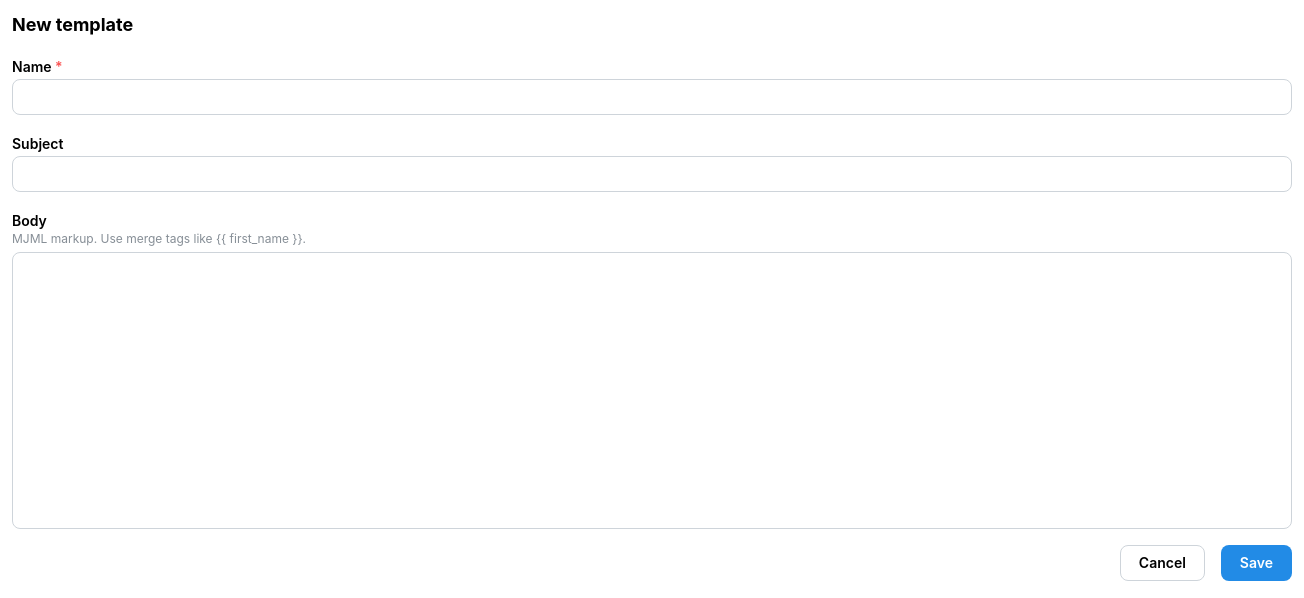
Test: creating a template sends the filled keys, refreshes the list and opens the edit page
Type "Welcome" into the field labelled "Name *" at point(652, 97), box x1=12 y1=79 x2=1292 y2=115
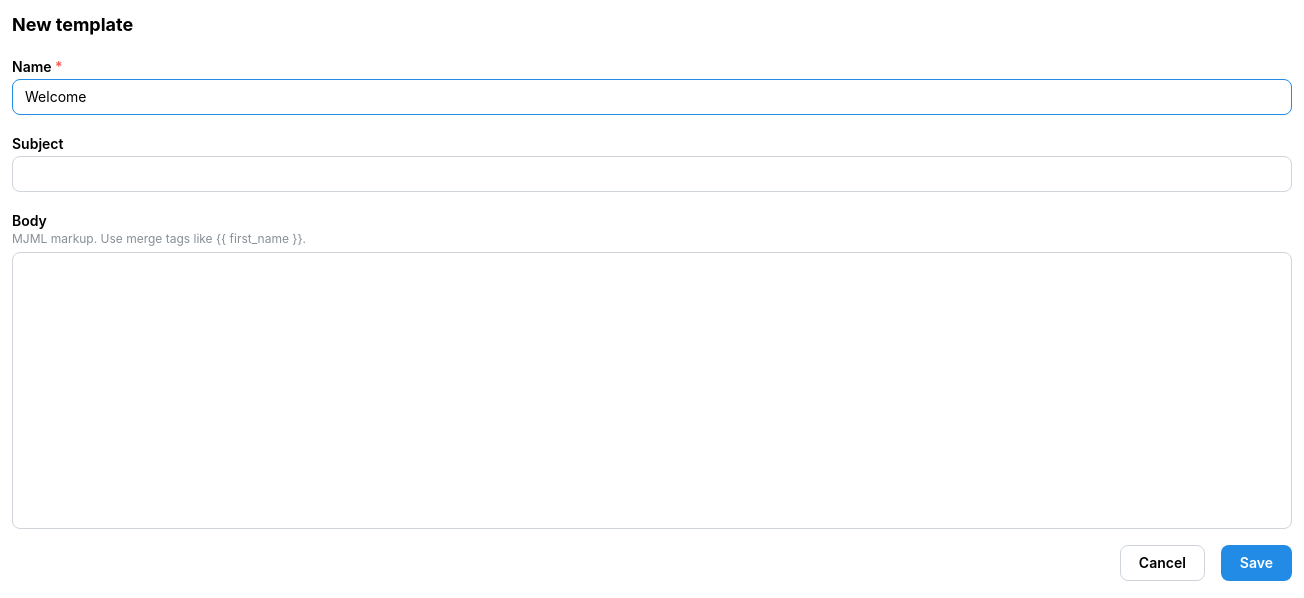
Type "Hi" into the field labelled "Subject" at point(652, 174), box x1=12 y1=156 x2=1292 y2=192
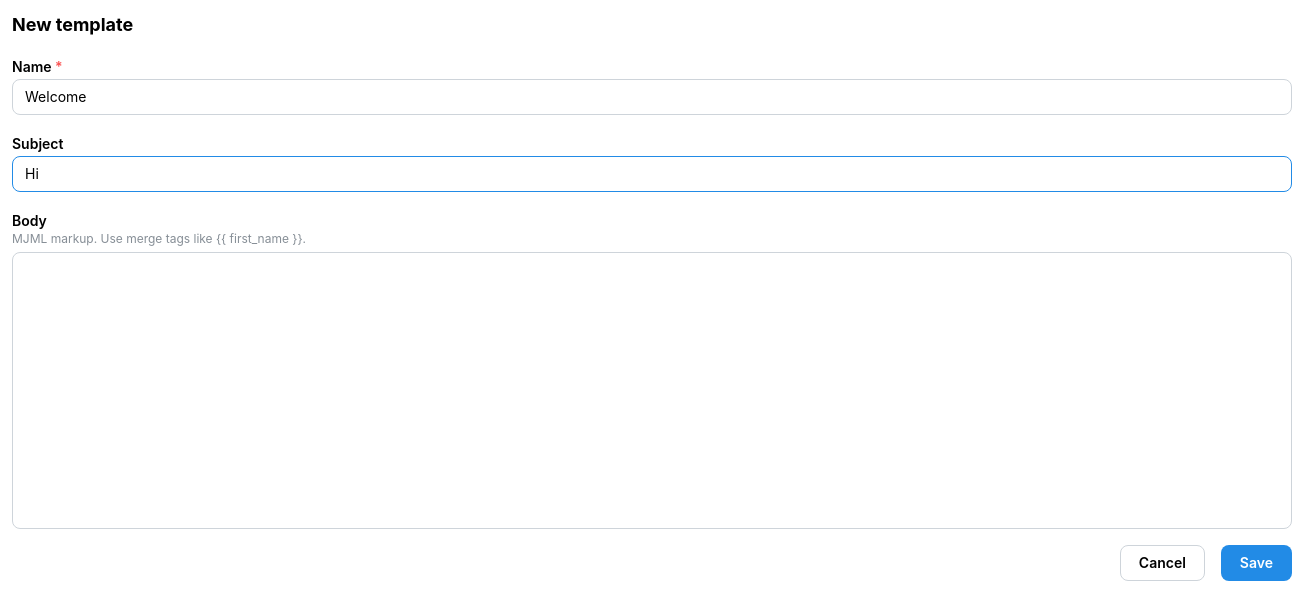
Click the button "Save" at point(1256, 563), box x1=1221 y1=545 x2=1292 y2=581
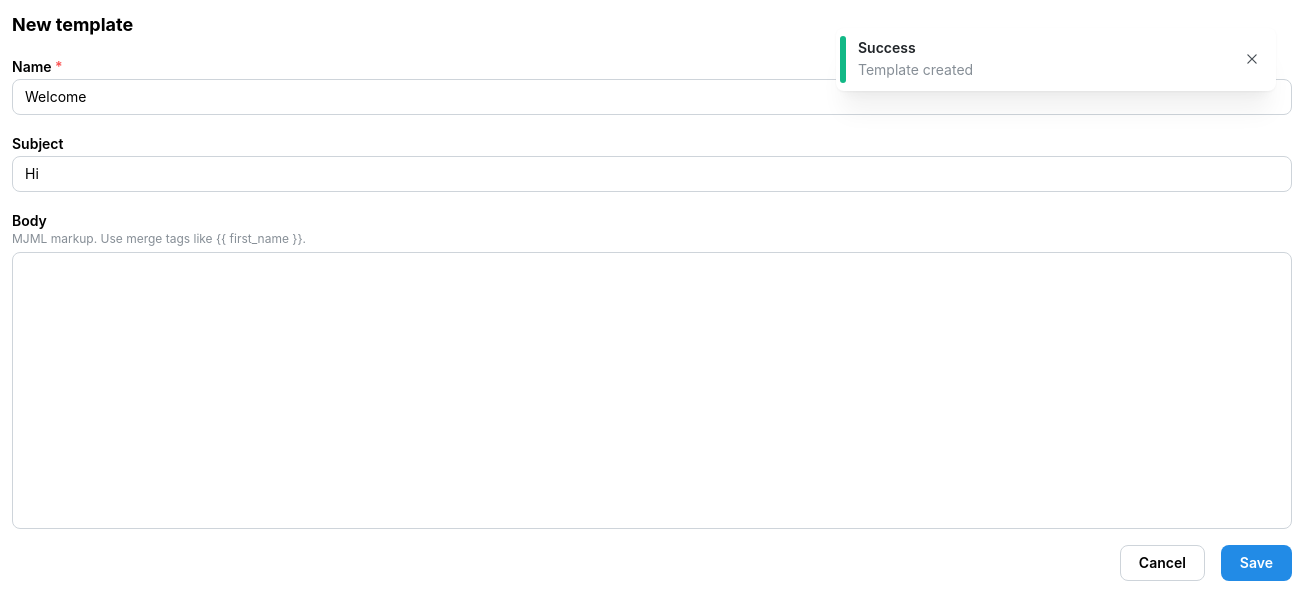
Expected: the text "Template created" is shown, x1=858 y1=61 x2=973 y2=78
